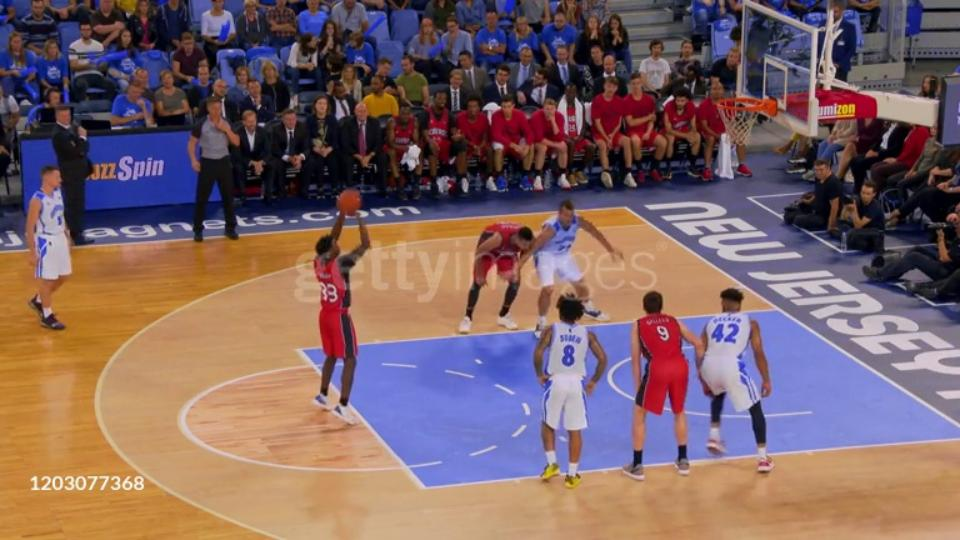hoop: (714, 94, 780, 115)
